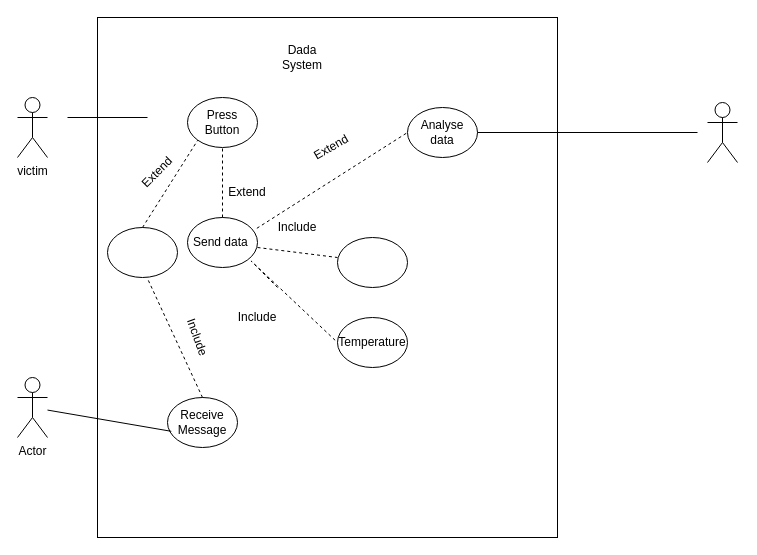
Image size: 757x555. Some labels were removed from this diagram. Each missing label, with the centre of its shape:
"Admin" goes at point (722, 132).
"Pulse Rate" goes at point (372, 262).
"Send message" goes at point (142, 252).
